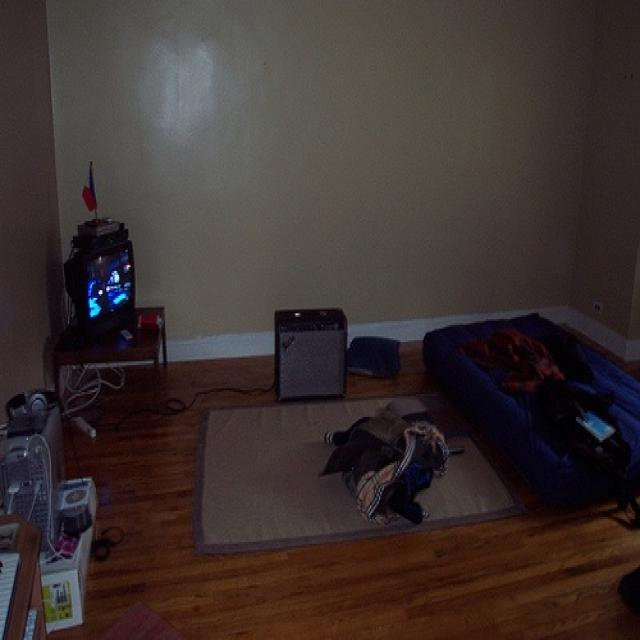tvmonitor: (65, 223, 138, 338)
